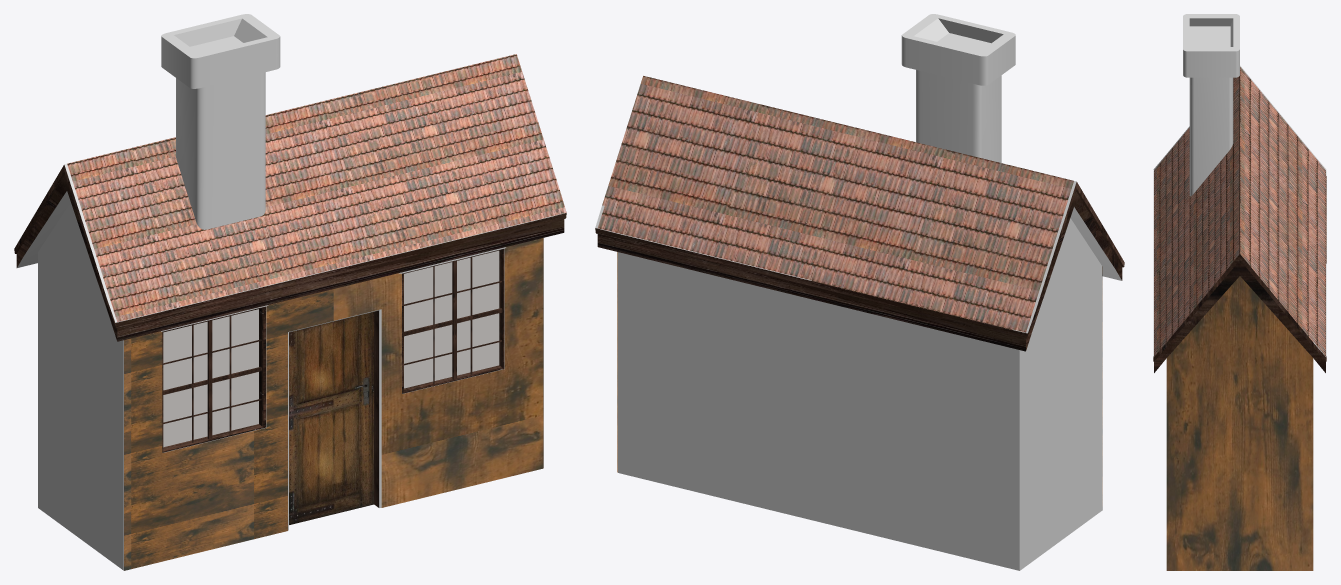
The model's file is House3.fbx.
The picture shows the model from 3 angles, left to right: view 1: azimuth 30°, elevation 25°; view 2: azimuth 150°, elevation 25°; view 3: azimuth 270°, elevation 25°; orthographic projection. The views are drawn at different scales.
Parts seen in each view (by area): view 1: Cube.004; view 2: Cube.004; view 3: Cube.004.
Boxes of the visible parts, x1,y1,x2,y2 form: Cube.004: (14,14,566,570); Cube.004: (595,14,1124,570); Cube.004: (1153,14,1326,570).
Bounding box in the file's own units: 1181 × 1211 × 460.
6 materials, 4 textured.
